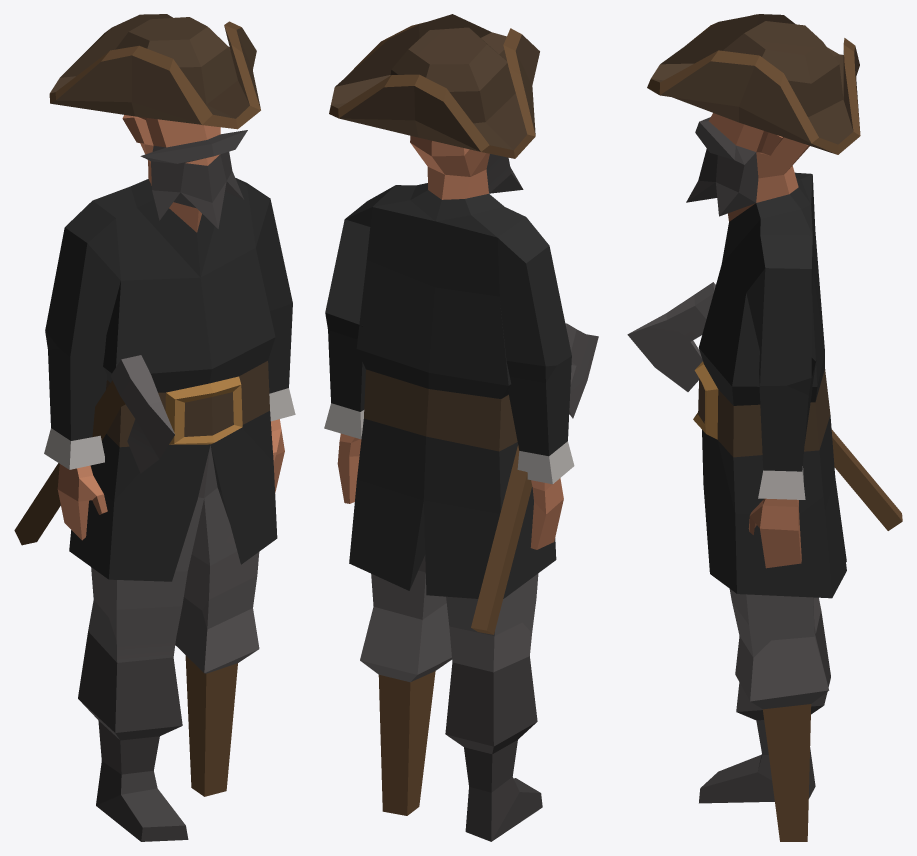
File: people_man-pirate-hat.fbx
3 renders of one model, left to right at view 1: azimuth 30°, elevation 25°; view 2: azimuth 150°, elevation 25°; view 3: azimuth 270°, elevation 25°, orthographic.
Parts seen in each view (by area): view 1: people_man_pirate_hat; view 2: people_man_pirate_hat; view 3: people_man_pirate_hat.
Boxes of the visible parts, x1,y1,x2,y2 form: people_man_pirate_hat: [14, 14, 295, 841]; people_man_pirate_hat: [324, 14, 598, 841]; people_man_pirate_hat: [627, 14, 902, 841].
Bounding box in the file's own units: 61.8 × 200 × 63.84.
